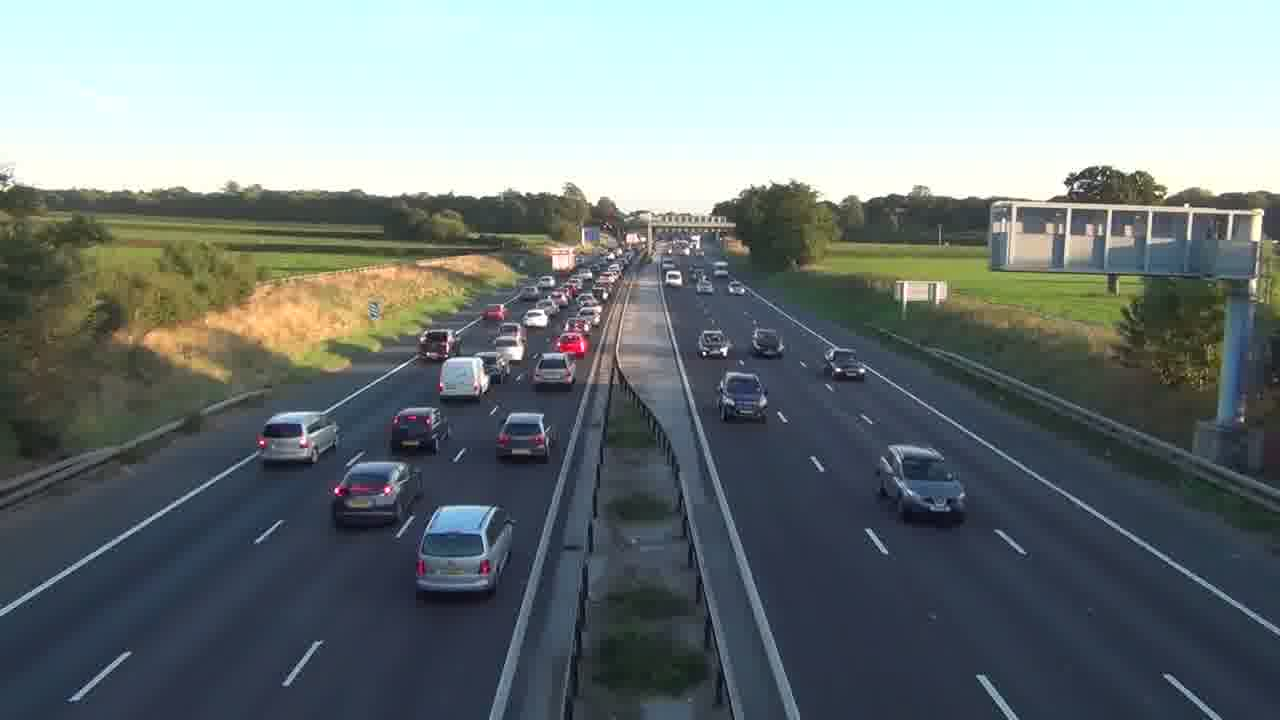car: (414, 503, 517, 600), (876, 443, 968, 524), (329, 459, 425, 529), (257, 410, 339, 465), (387, 405, 452, 454), (495, 411, 552, 463), (716, 370, 769, 423), (531, 352, 576, 392), (823, 347, 867, 382), (751, 326, 786, 358), (698, 330, 732, 359)
truck: (437, 355, 489, 401)
